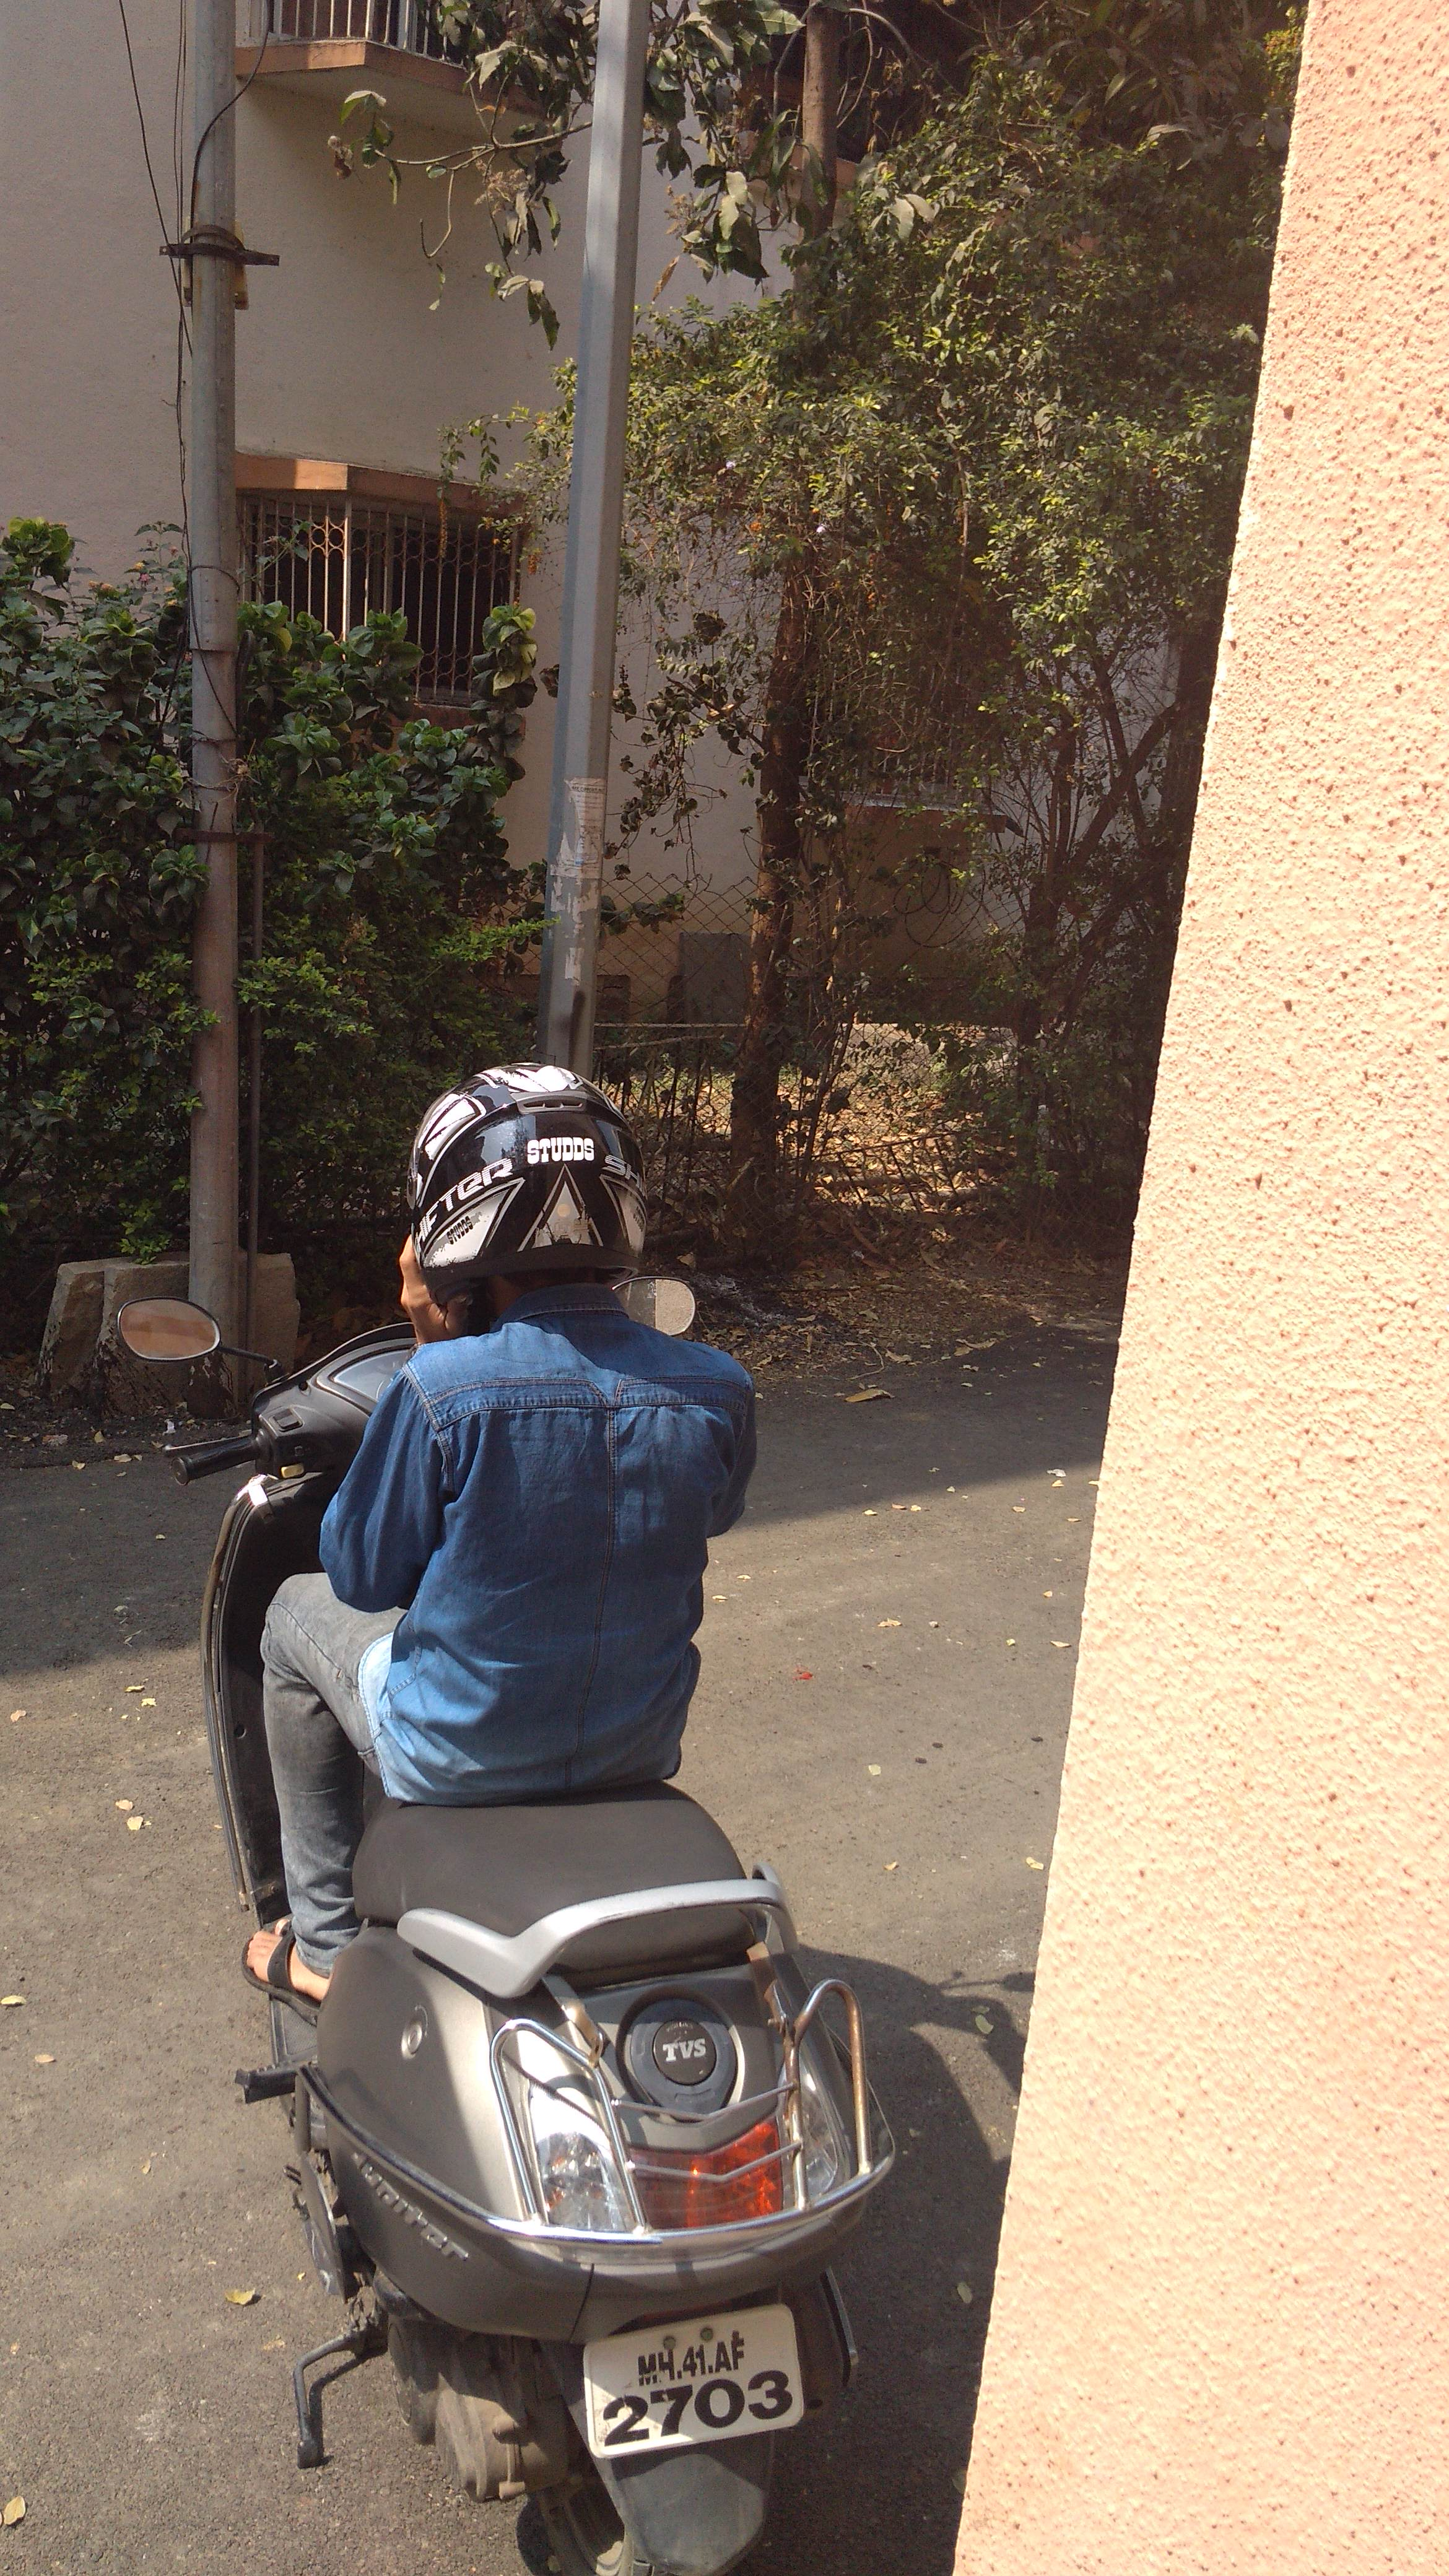helmet: (299, 1024, 745, 1799)
